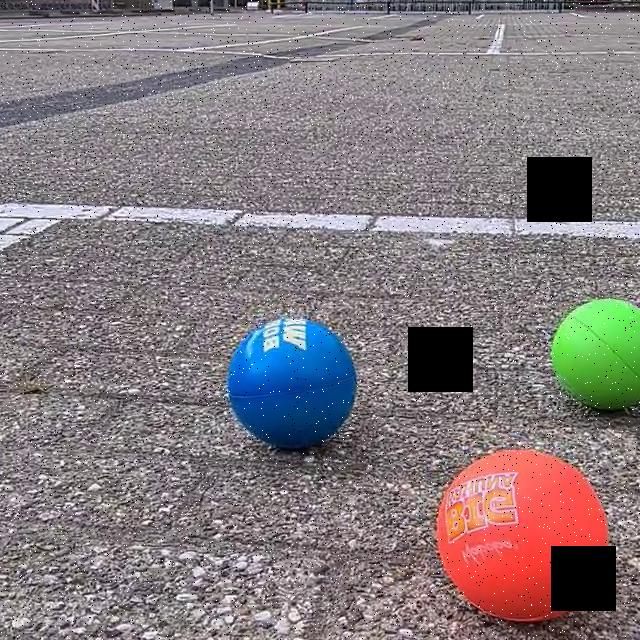ball: (222, 310, 364, 452), (546, 292, 640, 412)
